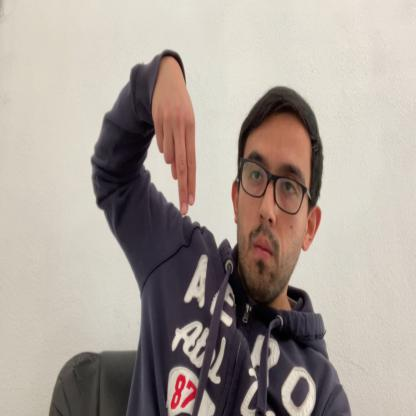N: (152, 54, 196, 216)
